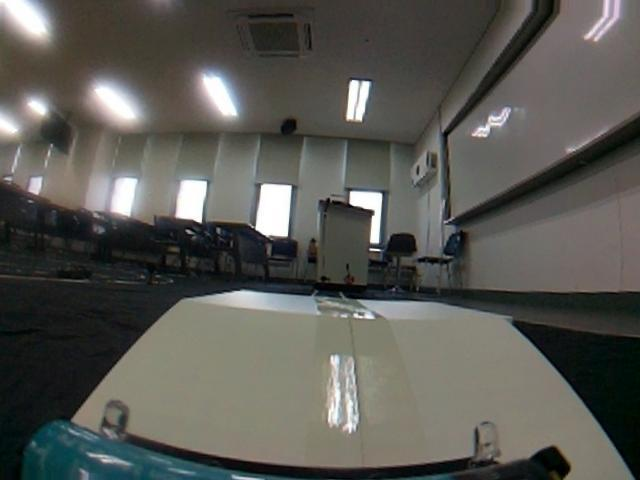hill_up: (2, 281, 640, 480)
